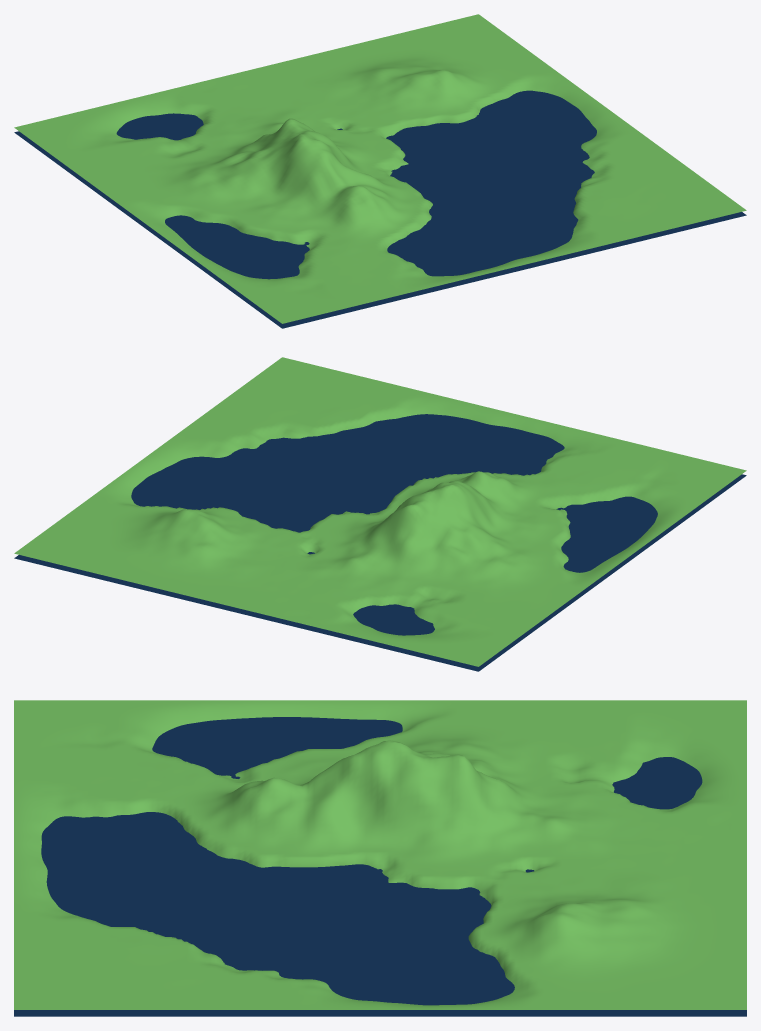
The model's file is UnityLandscape1.fbx.
3 renders of one model, top to bottom at view 1: azimuth 30°, elevation 25°; view 2: azimuth 150°, elevation 25°; view 3: azimuth 270°, elevation 25°, orthographic. The views are drawn at different scales.
Visible parts, largest first — view 1: Landscape, Landscape_plane; view 2: Landscape, Landscape_plane; view 3: Landscape, Landscape_plane.
Part boxes in pixels (left/top/right/bottom): Landscape: left=14, top=14, right=746, bottom=323; Landscape_plane: left=14, top=90, right=746, bottom=328; Landscape: left=14, top=357, right=746, bottom=666; Landscape_plane: left=14, top=414, right=746, bottom=671; Landscape: left=14, top=700, right=746, bottom=1009; Landscape_plane: left=14, top=717, right=746, bottom=1016.
Bounding box in the file's own units: 200 × 44.1 × 200.
